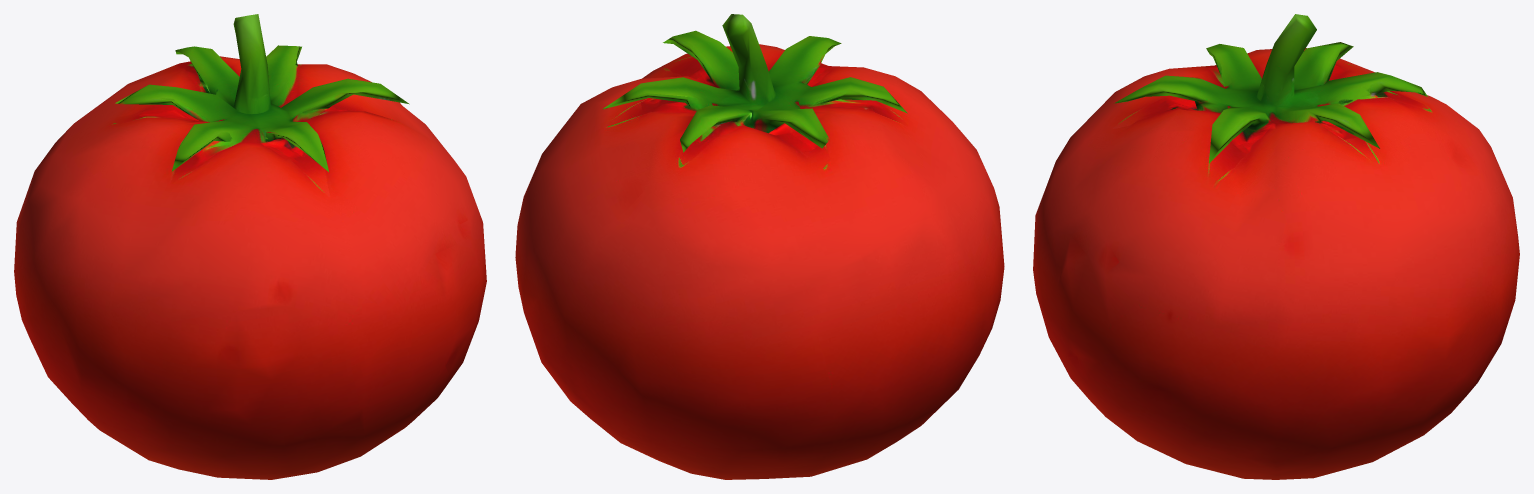
Rendered from Tomato.fbx.
The picture shows the model from 3 angles, left to right: view 1: azimuth 30°, elevation 25°; view 2: azimuth 150°, elevation 25°; view 3: azimuth 270°, elevation 25°; orthographic projection. The views are drawn at different scales.
Parts seen in each view (by area): view 1: tripo_node_e332d45f; view 2: tripo_node_e332d45f; view 3: tripo_node_e332d45f.
Boxes of the visible parts, x1,y1,x2,y2 form: tripo_node_e332d45f: (14,14,486,479); tripo_node_e332d45f: (515,14,1004,479); tripo_node_e332d45f: (1033,14,1519,479).
Size of the model in its own units: 0.9886 by 1 by 0.9868.
1 material, 1 textured.
